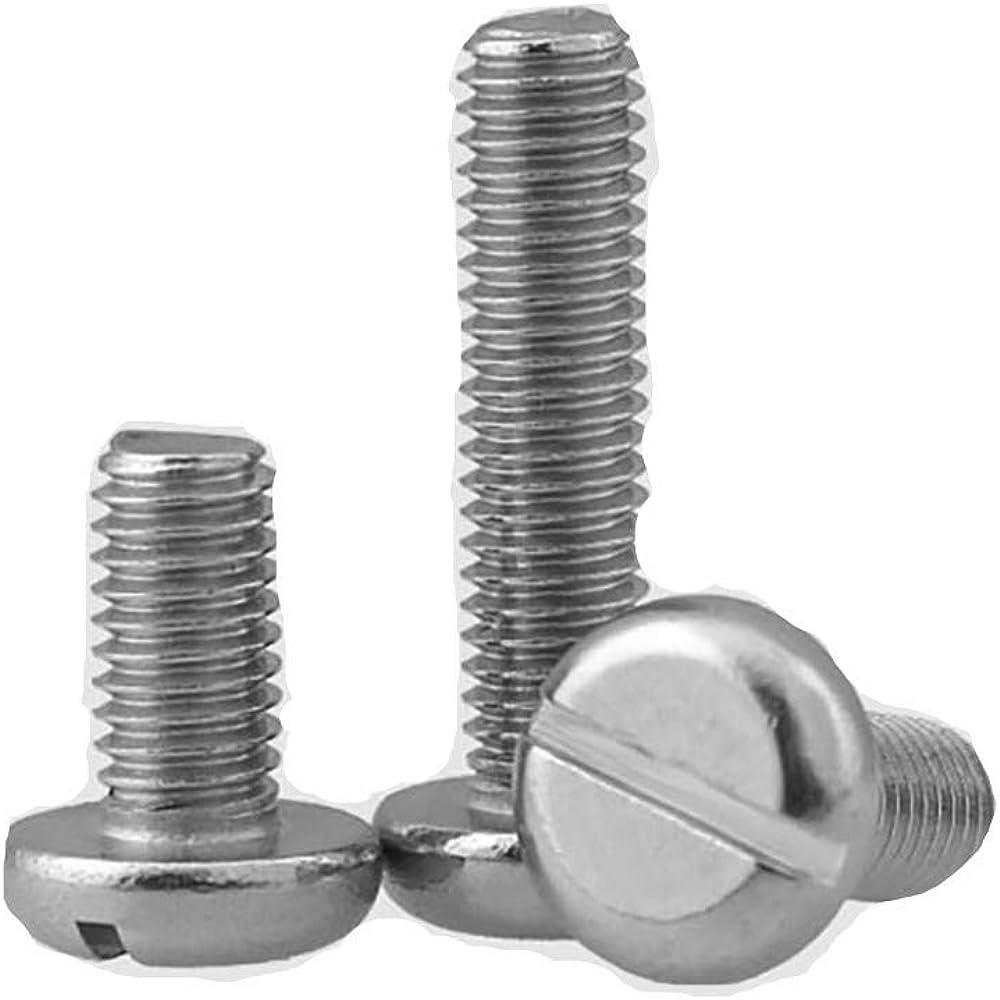screw: (530, 590, 858, 982)
